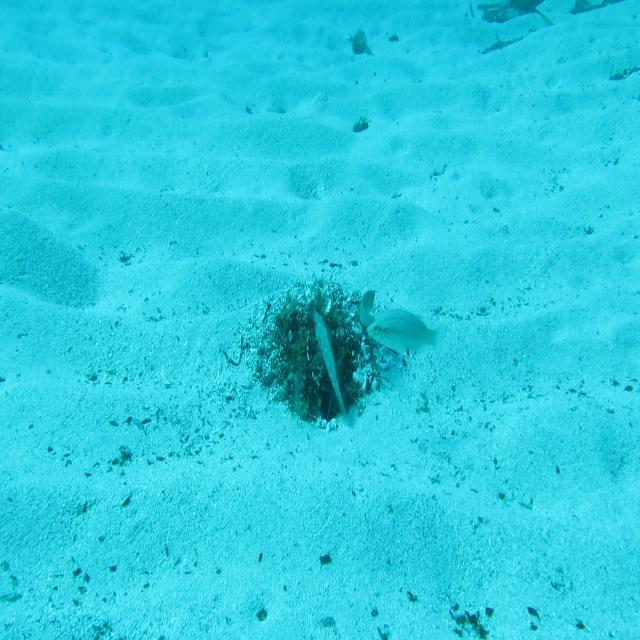SHAK: (311, 307, 355, 428)
female: (367, 303, 448, 360)
nest: (260, 281, 404, 431)
other_fish: (358, 287, 377, 328)
